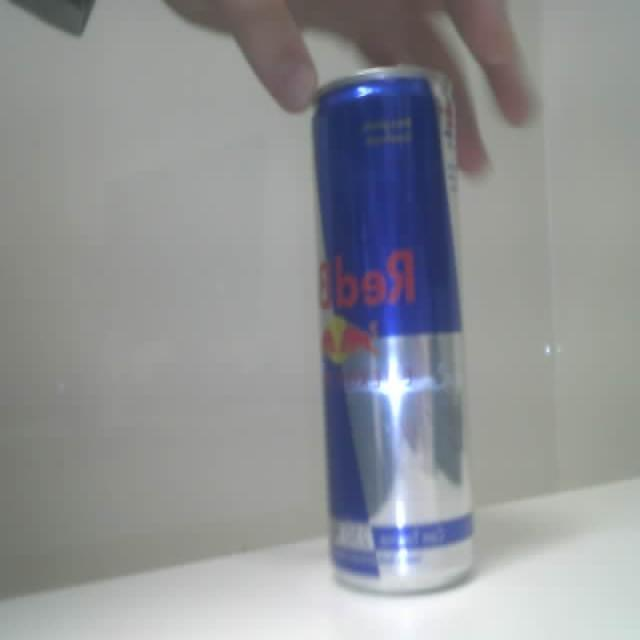redbull can: (313, 67, 472, 593)
